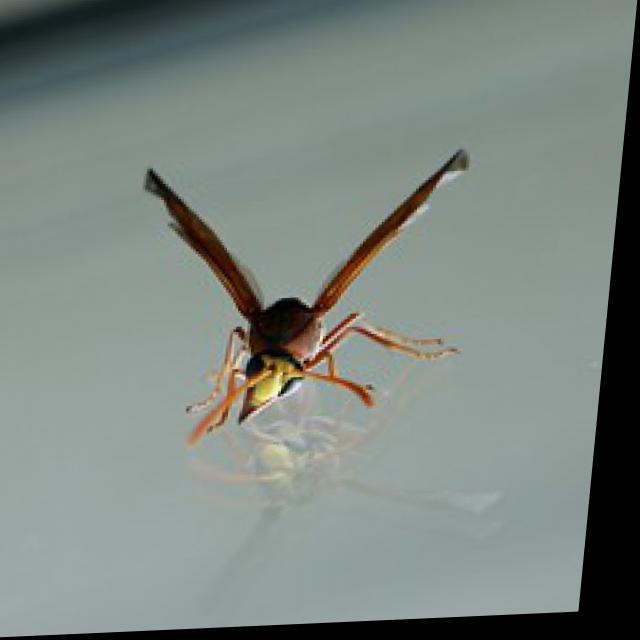Guepe: (107, 128, 526, 444)
